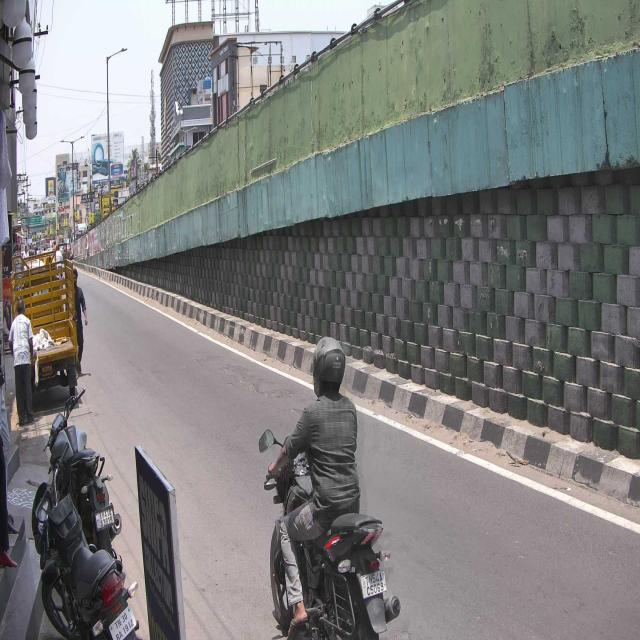double_rider: (259, 335, 403, 640)
